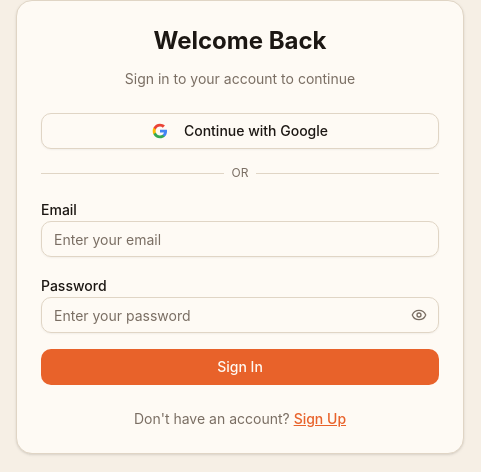
Test: AuthForm › Loading State › shows loading state during form submission
This screenshot has width=481, height=472.
Type "test@example.com" into the field labelled "Email". click: (240, 239)
box: [41, 221, 439, 257]
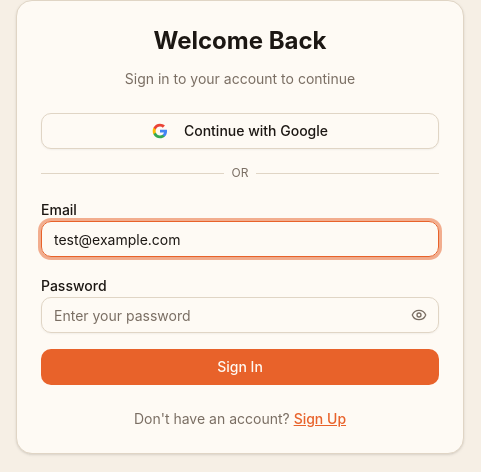
Type "password123" into the password field labelled "Password". click: (240, 315)
box: [41, 297, 439, 333]
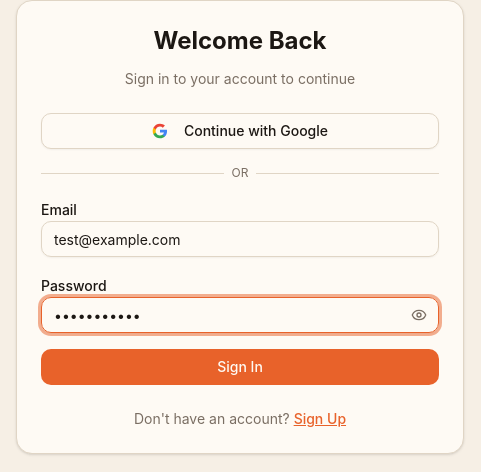
# Click submit and immediately check loading state
Click the button "Sign In". click: (240, 367)
box: [41, 349, 439, 385]
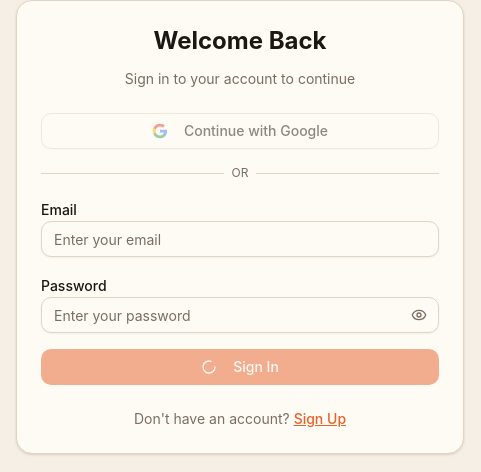
Result: the button "Sign In" is disabled at [41, 349, 439, 385]
